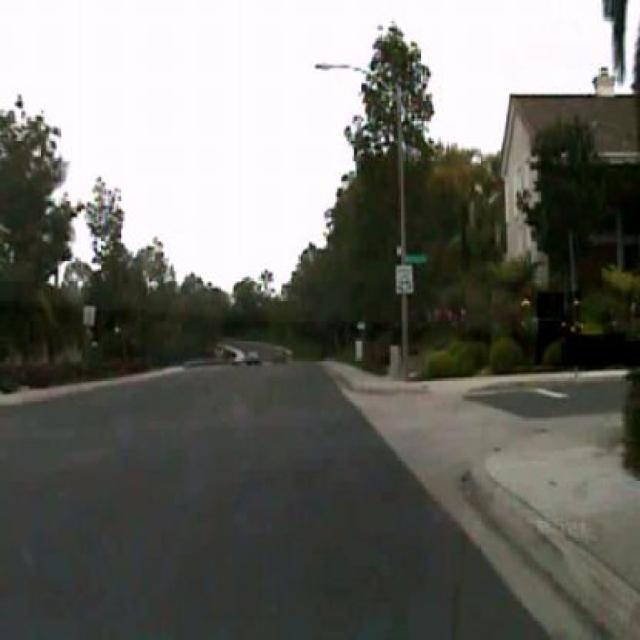speedLimit25: (394, 262, 413, 294)
